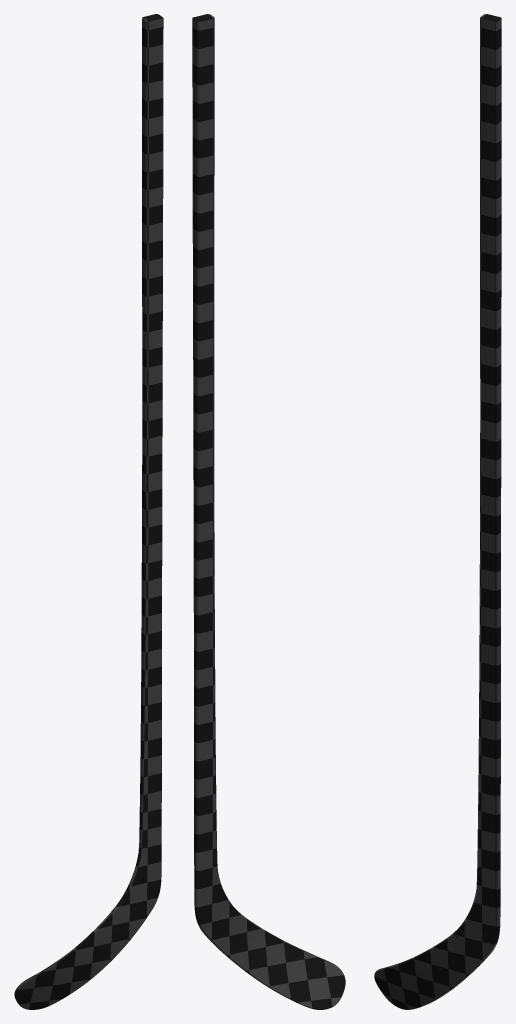
File: P91DN-SBT.glb
The picture shows the model from 3 angles, left to right: view 1: azimuth 30°, elevation 25°; view 2: azimuth 210°, elevation 25°; view 3: azimuth 330°, elevation 25°; orthographic projection. The views are drawn at different scales.
Parts seen in each view (by area): view 1: geometry_0; view 2: geometry_0; view 3: geometry_0.
Part boxes in pixels (left/top/right/bottom): geometry_0: left=14, top=14, right=163, bottom=1009; geometry_0: left=192, top=14, right=345, bottom=1009; geometry_0: left=374, top=14, right=501, bottom=1009.
Bounding box in the file's own units: 234 × 1650 × 61.22.
Materials: 1 (1 with a texture image).
